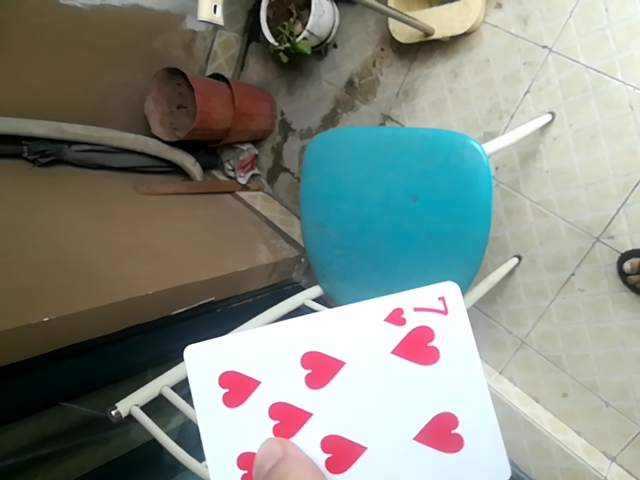hx 7: (181, 280, 510, 479)
